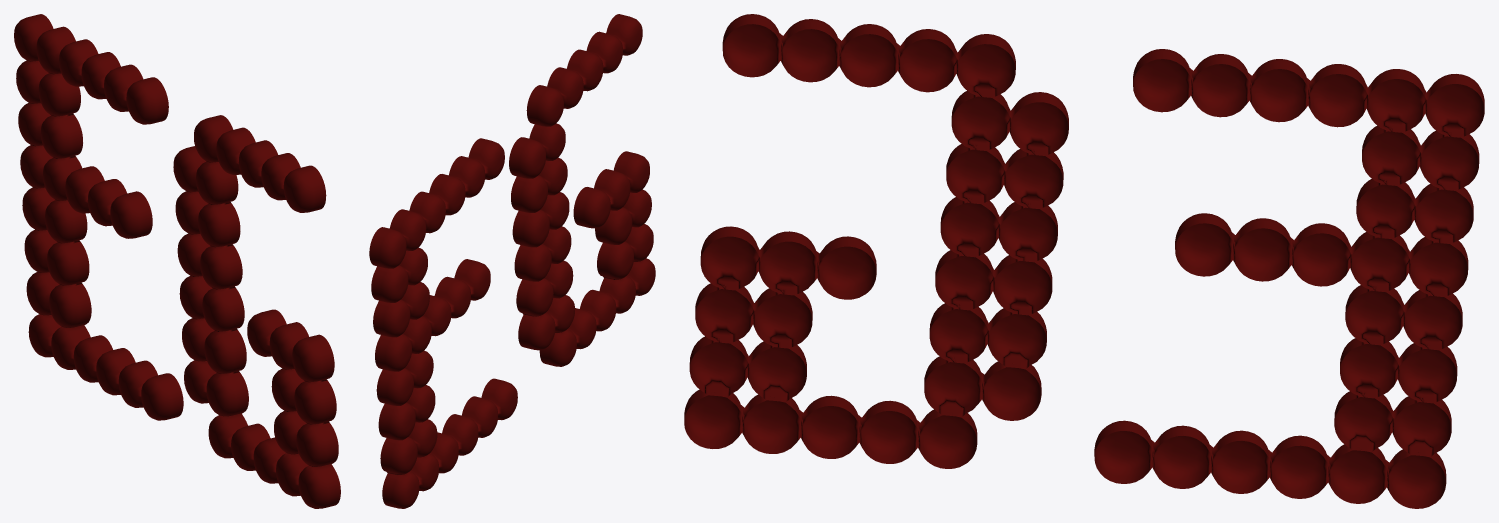
File: SM_Floor_Number_EG2_0_782_0_782_0_782.obj
The picture shows the model from 3 angles, left to right: view 1: azimuth 30°, elevation 25°; view 2: azimuth 150°, elevation 25°; view 3: azimuth 270°, elevation 25°; orthographic projection. The views are drawn at different scales.
Parts seen in each view (by area): view 1: SM_Floor_Number_EG2_0_782_0_782_0_782; view 2: SM_Floor_Number_EG2_0_782_0_782_0_782; view 3: SM_Floor_Number_EG2_0_782_0_782_0_782.
Boxes of the visible parts, x1,y1,x2,y2 form: SM_Floor_Number_EG2_0_782_0_782_0_782: [14, 14, 340, 508]; SM_Floor_Number_EG2_0_782_0_782_0_782: [369, 14, 655, 508]; SM_Floor_Number_EG2_0_782_0_782_0_782: [684, 14, 1484, 508].
Bounding box in the file's own units: 0.00587 × 0.0832 × 0.1246.
